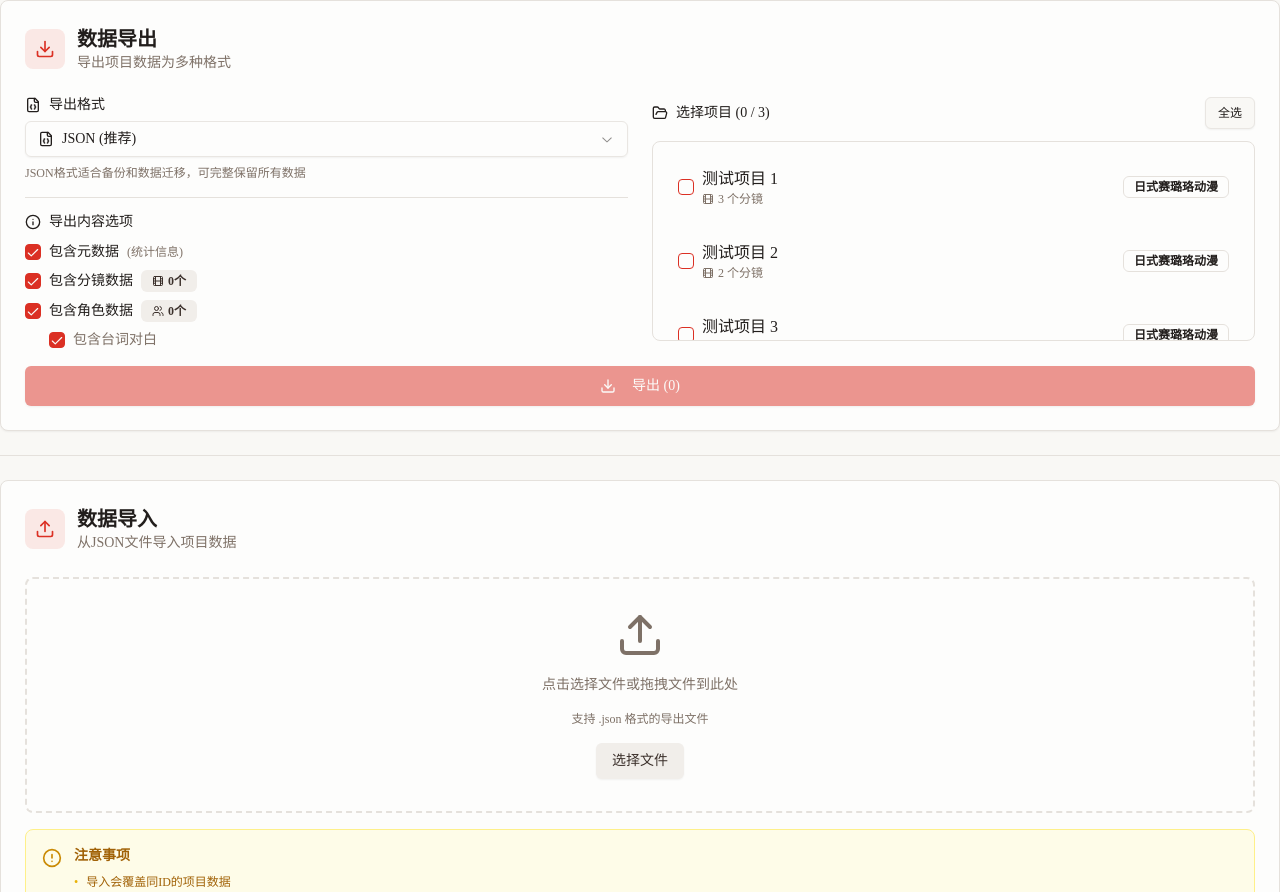
Test: DataExporter › 项目选择 › 应该能够全选所有项目
What coordinates should you click on to do the following:
click the button "全选"
I would click on:
 (1230, 113)
Its box is [1205,97,1255,129].
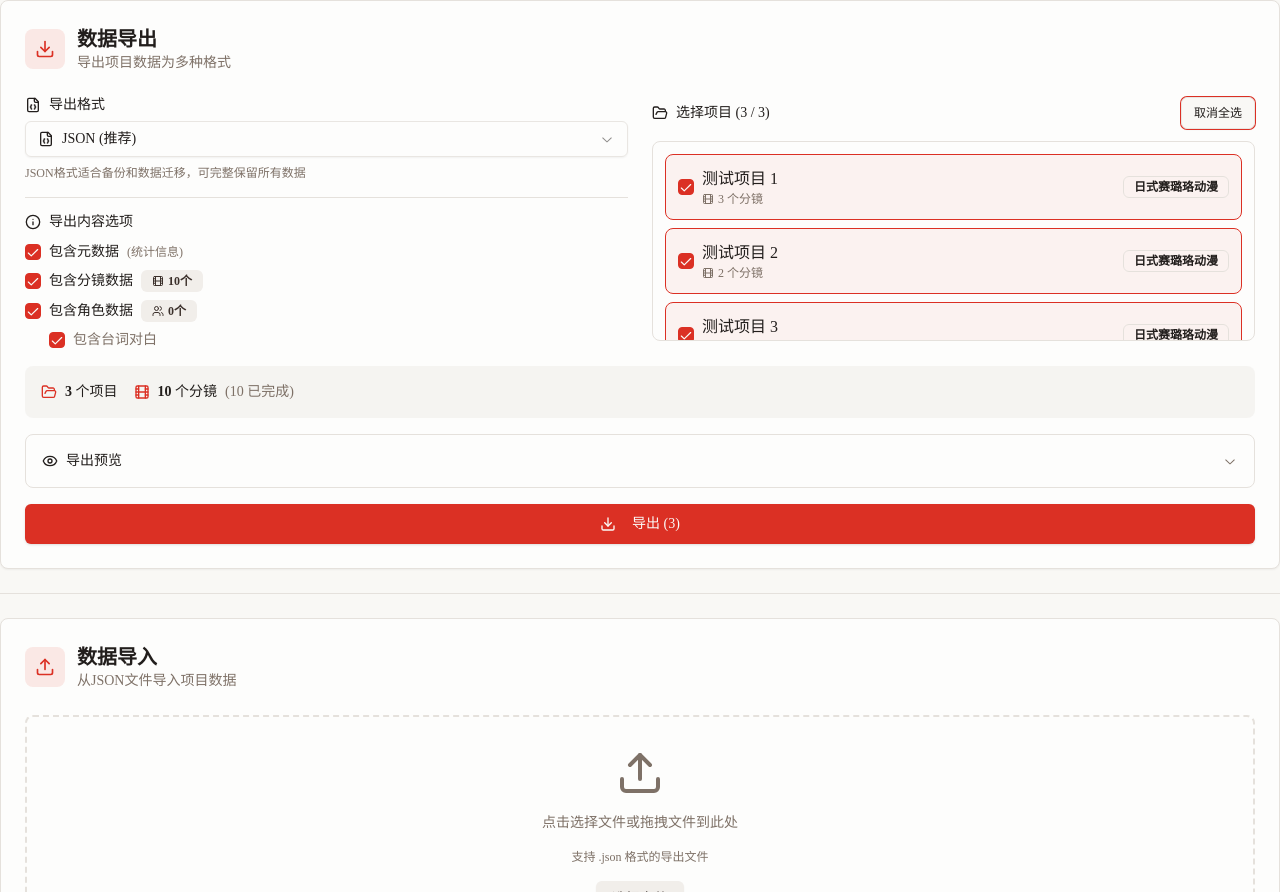
Expected: the text "选择项目 (3 / 3)" is shown, [652,105,770,121]
